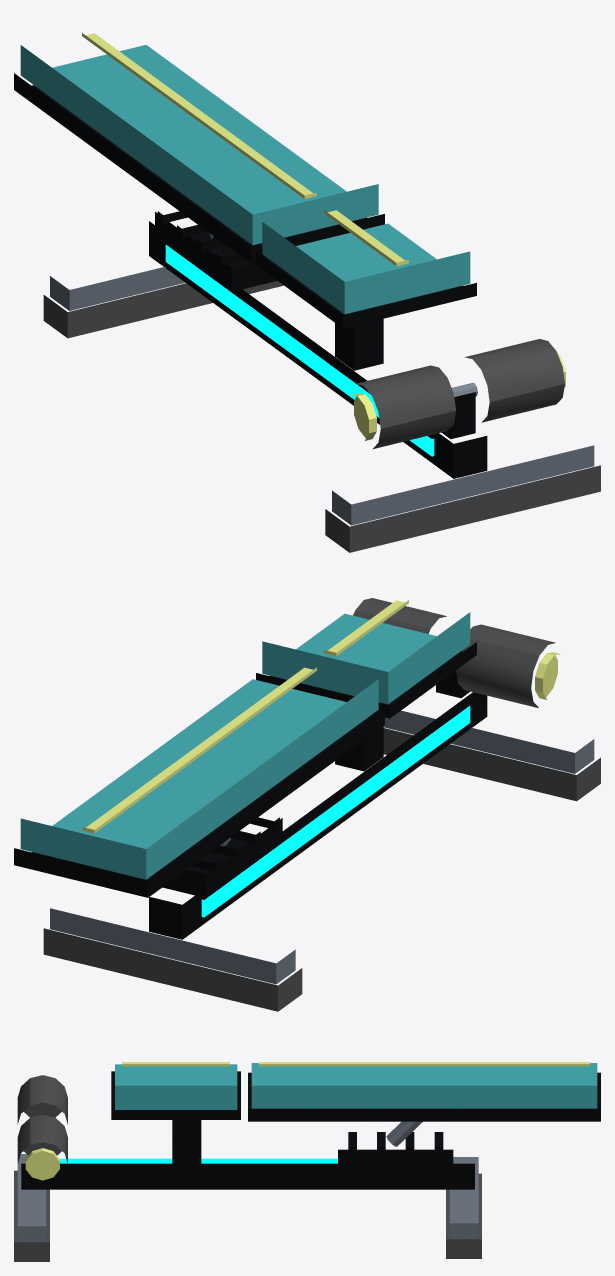
File: tt_gym_bench_flat.glb
The picture shows the model from 3 angles, top to bottom: view 1: azimuth 30°, elevation 25°; view 2: azimuth 150°, elevation 25°; view 3: azimuth 270°, elevation 25°; orthographic projection. The views are drawn at different scales.
Visible parts, largest first — view 1: Back_Pad, Frame_Weldment, Rubber_Feet, Seat_Pad, Leg_Rollers, Feet_Steel, Court_Line_LED, Back_Pad_Line, Seat_Pad_Line, Roller_Caps; view 2: Back_Pad, Frame_Weldment, Rubber_Feet, Seat_Pad, Feet_Steel, Leg_Rollers, Court_Line_LED, Back_Pad_Line, Seat_Pad_Line, Roller_Caps; view 3: Frame_Weldment, Back_Pad, Seat_Pad, Feet_Steel, Leg_Rollers, Rubber_Feet, Back_Pad_Line, Court_Line_LED, Roller_Caps, Seat_Pad_Line, Strut_Hinge.
Boxes of the visible parts, x1,y1,x2,y2 form: Back_Pad: (20,45,378,245); Frame_Weldment: (14,73,487,478); Rubber_Feet: (43,281,600,552); Seat_Pad: (262,222,470,314); Leg_Rollers: (355,339,564,449); Feet_Steel: (50,266,594,525); Court_Line_LED: (165,244,434,456); Back_Pad_Line: (82,33,316,198); Seat_Pad_Line: (324,210,408,266); Roller_Caps: (351,348,565,440); Back_Pad: (20,679,378,879); Frame_Weldment: (14,642,487,939); Rubber_Feet: (43,728,600,1011); Seat_Pad: (262,612,470,704); Feet_Steel: (50,710,594,984); Leg_Rollers: (353,598,555,707); Court_Line_LED: (201,705,470,917); Back_Pad_Line: (82,667,316,833); Seat_Pad_Line: (324,600,408,656); Roller_Caps: (351,607,560,699); Frame_Weldment: (21,1071,600,1189); Back_Pad: (251,1063,597,1108); Seat_Pad: (115,1064,237,1109); Feet_Steel: (17,1154,478,1241); Leg_Rollers: (17,1075,67,1163); Rubber_Feet: (14,1170,481,1261); Back_Pad_Line: (259,1062,590,1066); Court_Line_LED: (60,1158,337,1163); Roller_Caps: (25,1148,59,1180); Seat_Pad_Line: (122,1062,229,1066); Strut_Hinge: (386,1121,422,1146).
Size of what is drawn, in the model's own units: 0.6 by 0.474 by 1.63.
7 materials, 3 textured.
